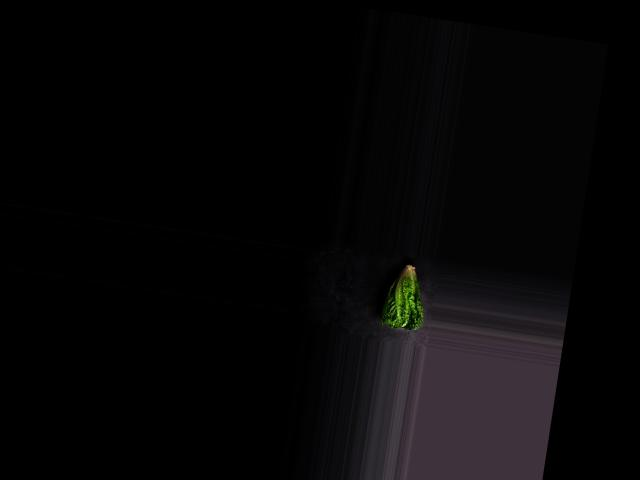lettuce: (376, 256, 433, 332)
